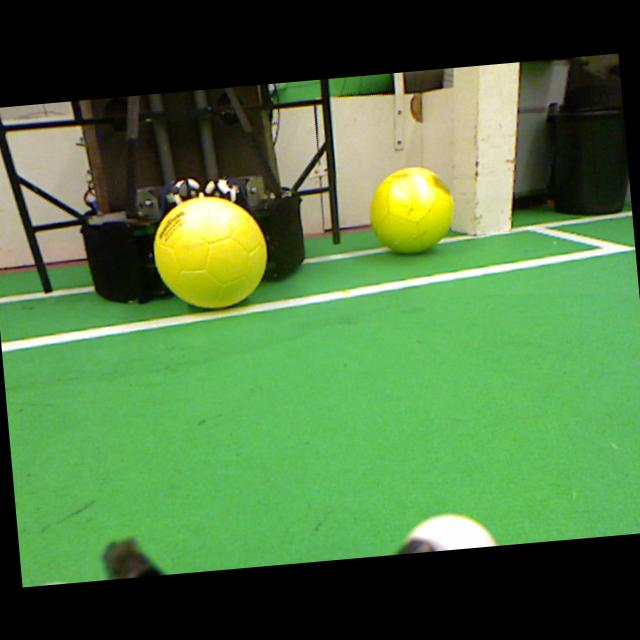ball: (153, 197, 267, 309), (370, 166, 453, 253)
goal: (475, 62, 519, 235)
robot: (74, 84, 308, 304)
